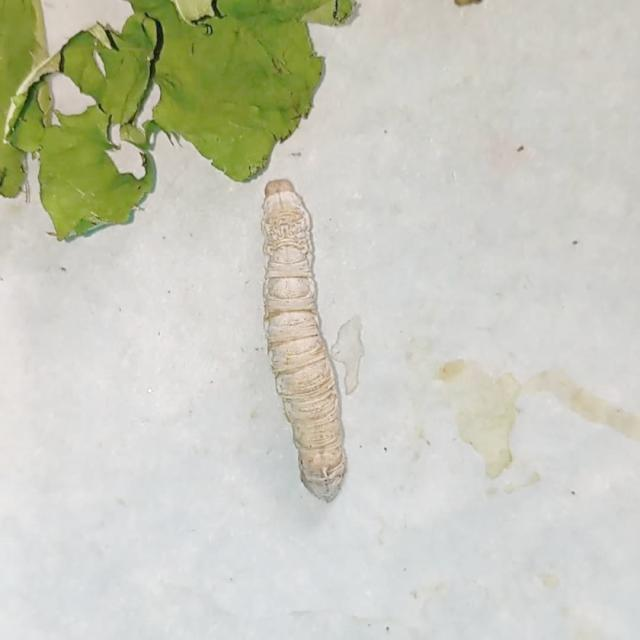Grasserie: (244, 173, 381, 512)
